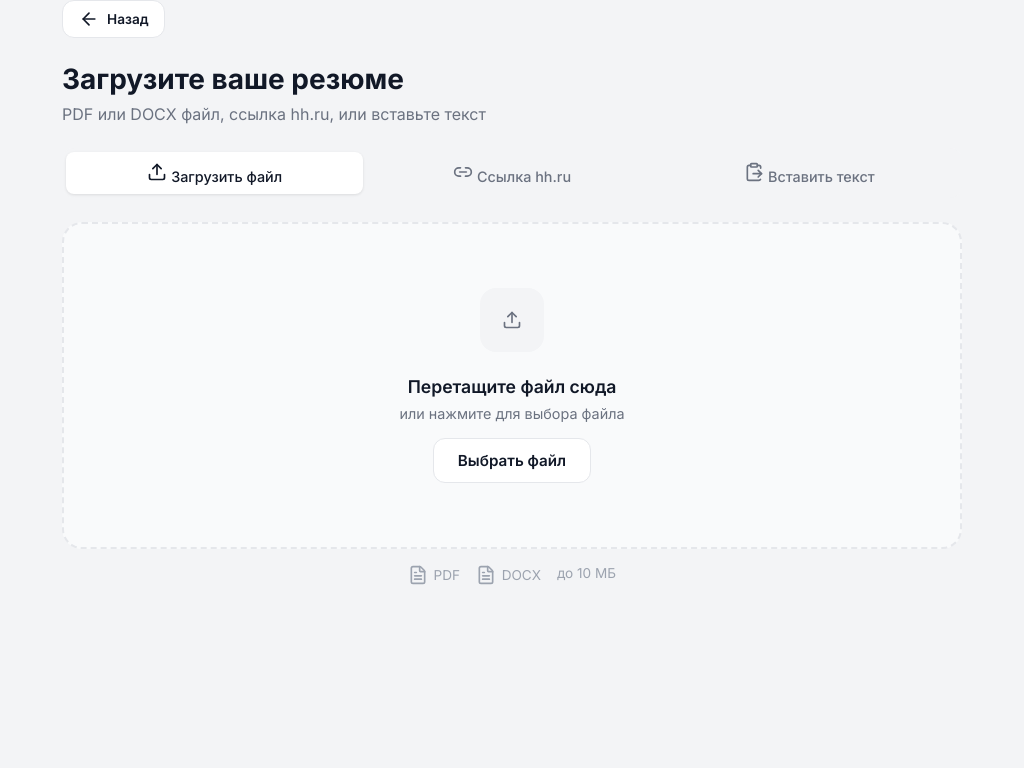
Scenario: UploadPage hh.ru URL tab › renders URL input on hh.ru tab
This screenshot has width=1024, height=768.
Click the text "Ссылка hh.ru": (524,176) [477, 168, 571, 185]
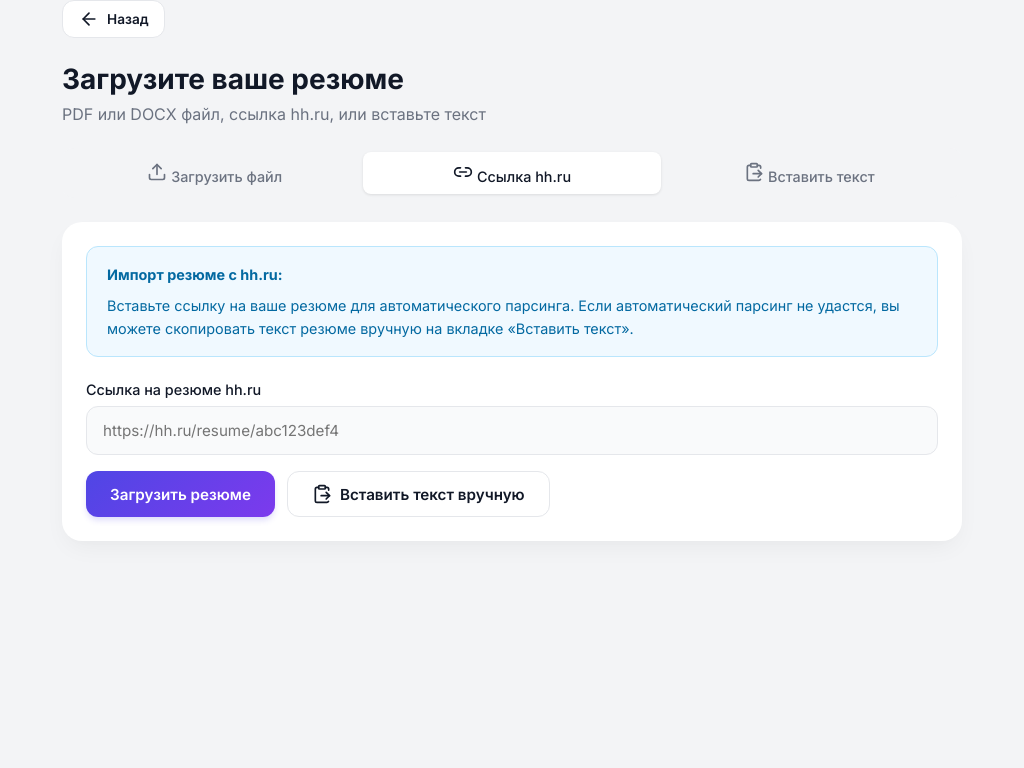
Check: the field with placeholder "https://hh.ru/resume/abc123def4" is shown, box [86, 406, 938, 455]
